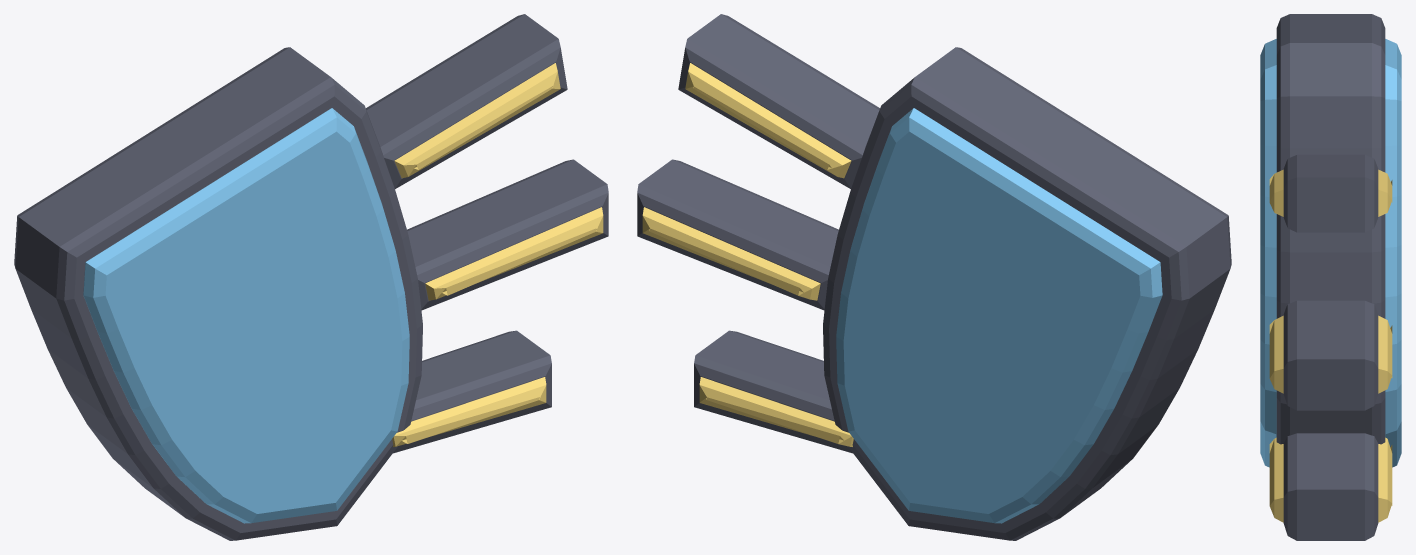
File: game-ui-icon-library-shield-bash-glyph-4ca537d7__19027.glb
3 renders of one model, left to right at view 1: azimuth 30°, elevation 25°; view 2: azimuth 150°, elevation 25°; view 3: azimuth 270°, elevation 25°, orthographic.
Visible parts, largest first — view 1: shield-bash-glyph; view 2: shield-bash-glyph; view 3: shield-bash-glyph.
Boxes of the visible parts, x1,y1,x2,y2 form: shield-bash-glyph: (14, 14, 608, 540); shield-bash-glyph: (637, 14, 1231, 540); shield-bash-glyph: (1260, 14, 1401, 540).
Bounding box in the file's own units: 0.98 × 0.7592 × 0.2153.
